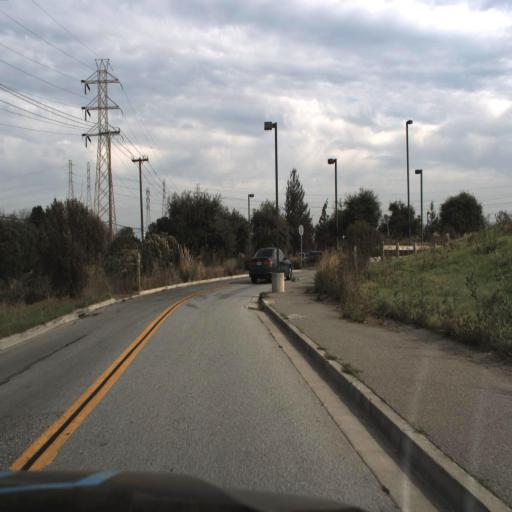car: (248, 243, 291, 282)
